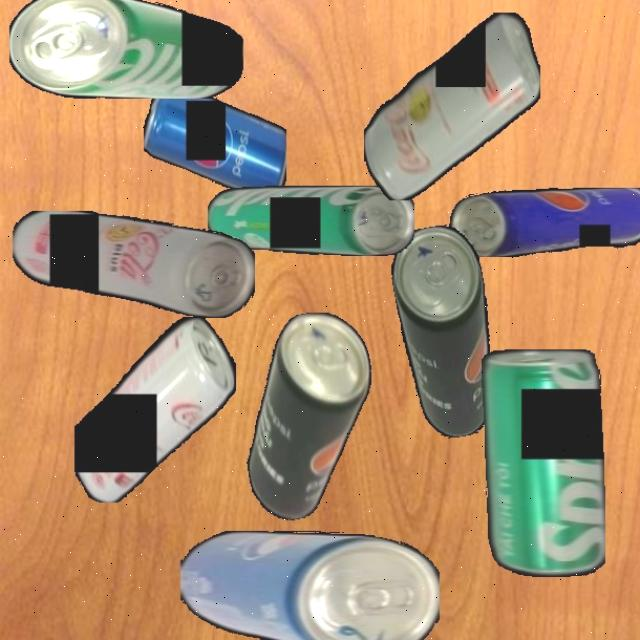debris: (223, 304, 394, 526), (363, 12, 540, 200), (74, 316, 236, 502), (480, 349, 606, 577), (180, 531, 440, 640), (385, 220, 509, 443), (11, 211, 255, 318), (10, 0, 244, 99), (143, 79, 286, 200), (207, 186, 414, 256), (449, 187, 640, 257)
